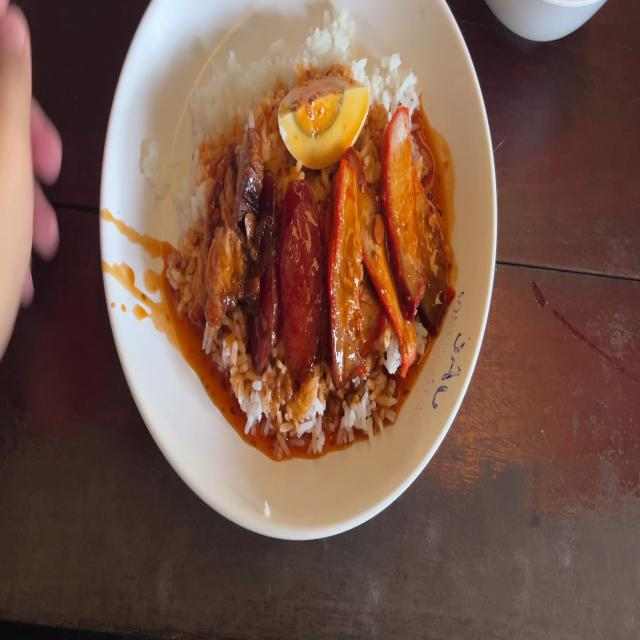01boiled_egg: (284, 84, 364, 150)
01chainese_sausage: (255, 180, 318, 351)
01crispy_pork: (211, 143, 259, 310)
01red_pork: (333, 124, 426, 341)
01red_pork_and_crispy_pork: (177, 33, 459, 427)
01rice: (243, 375, 382, 445), (192, 40, 288, 139), (174, 154, 209, 300), (300, 10, 351, 72), (206, 322, 252, 385), (369, 58, 416, 114)
